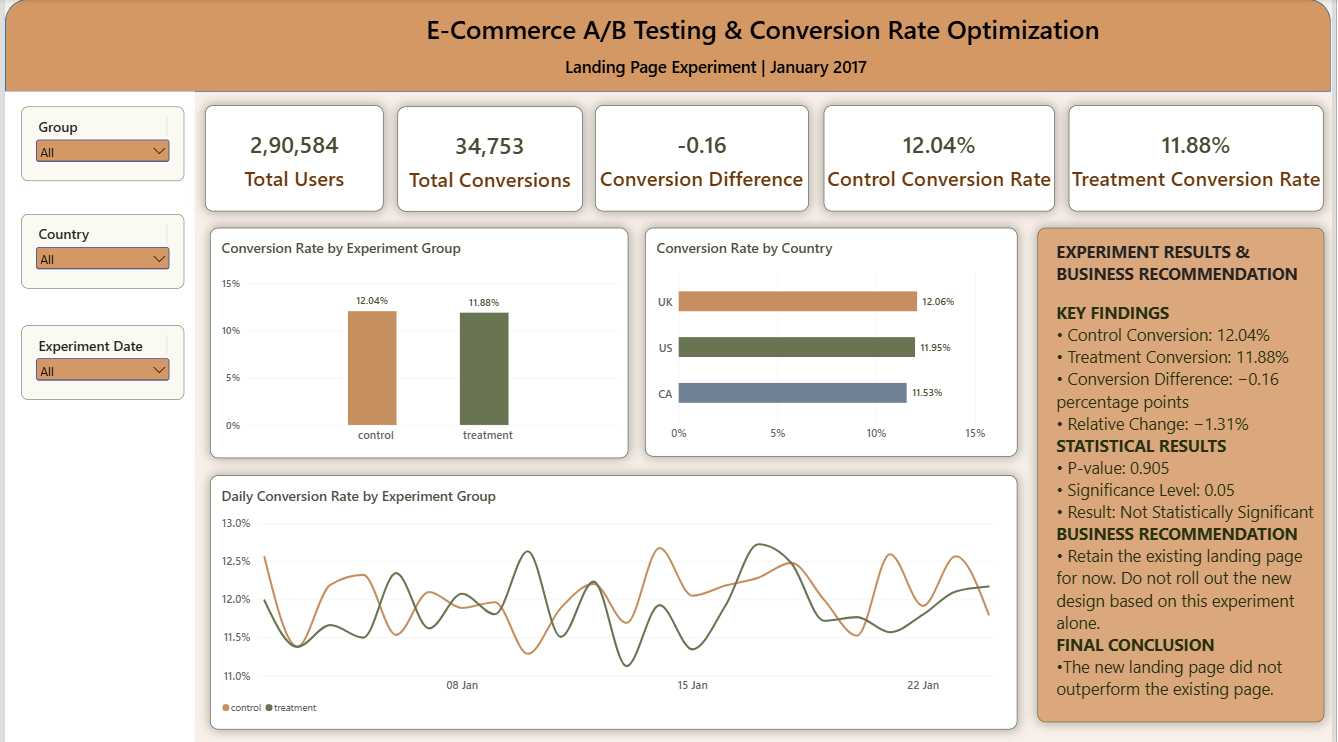

What the dashboard file says about the page in this screenshot:
{"tool":"powerbi","page":{"name":"Page 1","canvas":[1920,1080],"ordinal":0},"visuals":[{"type":"shape","box":[0,0,1919.6,134.2],"z":0},{"type":"textbox","box":[610.3,17.3,1051.8,90.9],"z":1000},{"type":"textbox","box":[811.6,82.2,508.6,80.1],"z":2000},{"type":"shape","box":[0,134.2,274.8,945.7],"z":3000},{"type":"card","fields":{"Values":["AB_Test_Data.Total Users"]},"box":[289.5,153.8,258.8,153.8],"z":4000},{"type":"card","fields":{"Values":["AB_Test_Data.Conversion Difference (pp)"]},"box":[854.2,153.8,309.5,153.8],"z":5000},{"type":"card","fields":{"Values":["AB_Test_Data.Control Conversion Rate"]},"box":[1185.3,153.8,334.8,153.8],"z":6000},{"type":"card","fields":{"Values":["AB_Test_Data.Treatment Conversion Rate"]},"box":[1540,153.8,369.2,153.8],"z":7000},{"type":"clusteredColumnChart","title":"Conversion Rate by Experiment Group","fields":{"Category":["AB_Test_Data.group"],"Y":["AB_Test_Data.Overall Conversion Rate"]},"box":[296.5,330.8,606,333.3],"z":8000},{"type":"card","fields":{"Values":["AB_Test_Data.Total Conversions"]},"box":[568.2,155.6,267.8,152],"z":9000},{"type":"clusteredBarChart","title":"Conversion Rate by Country","fields":{"Category":["AB_Test_Data.country"],"Y":["AB_Test_Data.Overall Conversion Rate"]},"box":[926.3,330.8,538.9,331.1],"z":10000},{"type":"lineChart","title":"Daily Conversion Rate by Experiment Group","fields":{"Category":["AB_Test_Data.Experiment Date.Variation.Date Hierarchy.Year","AB_Test_Data.Experiment Date.Variation.Date Hierarchy.Quarter","AB_Test_Data.Experiment Date.Variation.Date Hierarchy.Month","AB_Test_Data.Experiment Date.Variation.Date Hierarchy.Day"],"Series":["AB_Test_Data.group"],"Y":["AB_Test_Data.Overall Conversion Rate"]},"box":[296.5,690.4,1168.6,367.9],"z":11000},{"type":"shape","box":[1495.4,331.1,415.5,716.3],"z":11001},{"type":"textbox","box":[1521.4,348.4,372.2,71.4],"z":11002},{"type":"textbox","box":[1521.4,437.2,389.5,608.1],"z":11003},{"type":"slicer","fields":{"Values":["AB_Test_Data.group"]},"box":[23.8,155.8,235.9,108.2],"z":11004},{"type":"slicer","fields":{"Values":["AB_Test_Data.country"]},"box":[23.8,311.6,235.9,108.2],"z":11005},{"type":"slicer","fields":{"Values":["AB_Test_Data.Experiment Date"]},"box":[23.8,471.8,235.9,108.2],"z":11006}]}

Visuals, with their boxes in screenshot pixels (x1, y1, x2, y2), scaled from the page's 1920x1080 canvas onto the 1338x742 screenshot:
shape: <box>0,0,1337,92</box>
textbox: <box>425,12,1158,74</box>
textbox: <box>566,56,920,112</box>
shape: <box>0,92,192,741</box>
card - AB_Test_Data.Total Users: <box>202,106,382,211</box>
card - AB_Test_Data.Conversion Difference (pp): <box>595,106,811,211</box>
card - AB_Test_Data.Control Conversion Rate: <box>826,106,1059,211</box>
card - AB_Test_Data.Treatment Conversion Rate: <box>1073,106,1330,211</box>
"Conversion Rate by Experiment Group" clusteredColumnChart: <box>207,227,629,456</box>
card - AB_Test_Data.Total Conversions: <box>396,107,583,211</box>
"Conversion Rate by Country" clusteredBarChart: <box>646,227,1021,455</box>
"Daily Conversion Rate by Experiment Group" lineChart: <box>207,474,1021,727</box>
shape: <box>1042,227,1332,720</box>
textbox: <box>1060,239,1320,288</box>
textbox: <box>1060,300,1332,718</box>
slicer - AB_Test_Data.group: <box>17,107,181,181</box>
slicer - AB_Test_Data.country: <box>17,214,181,288</box>
slicer - AB_Test_Data.Experiment Date: <box>17,324,181,398</box>
